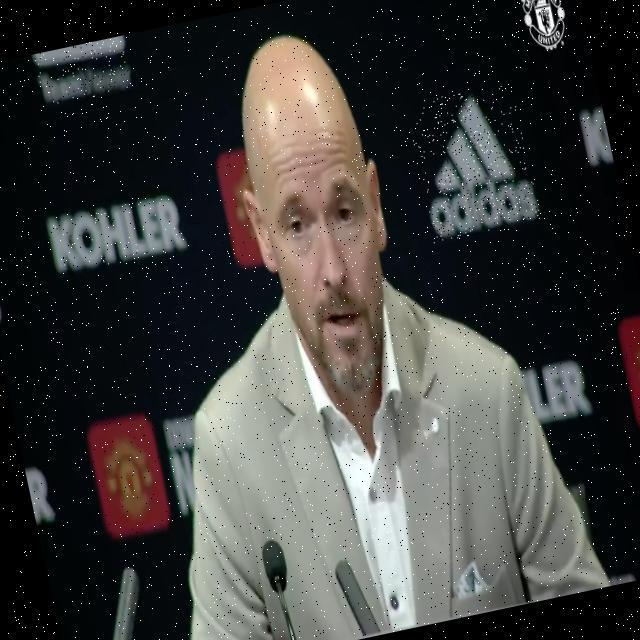Adidas: (404, 81, 542, 243)
Kohler: (45, 190, 188, 276)
TeamViewer: (34, 35, 135, 107)
